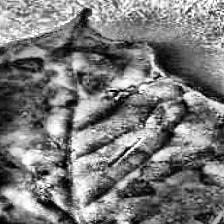disease: (0, 7, 224, 224)
